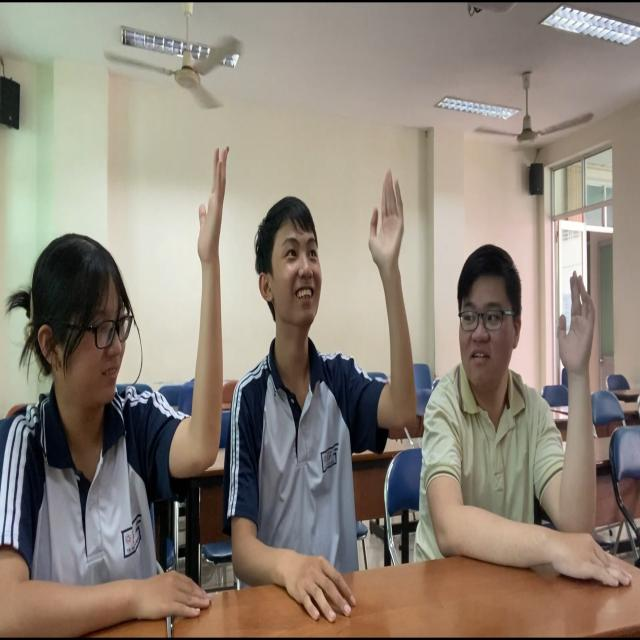raise_hand: (1, 101, 238, 640), (420, 233, 640, 625)
